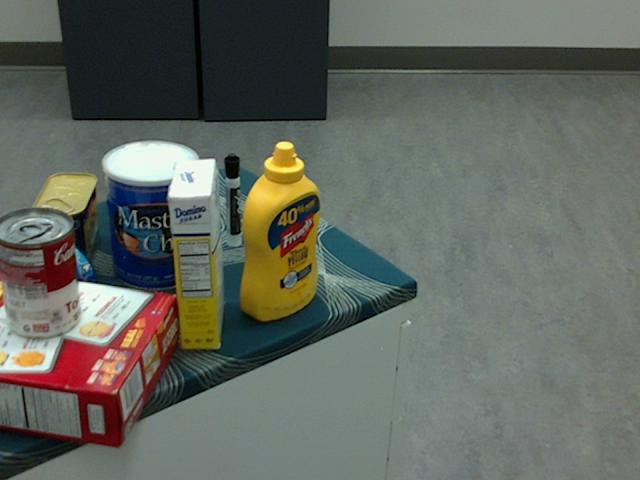cracker_box: (0, 267, 177, 447)
large_marker: (224, 153, 241, 246)
master_chef_can: (100, 140, 199, 292)
mug: (110, 142, 202, 224)
mustard_bottle: (239, 140, 321, 320)
potted_meat_can: (32, 171, 98, 275)
sugar_box: (166, 157, 224, 350)
tomato_soup_can: (0, 207, 80, 339)
tuna_fish_can: (8, 238, 96, 323)
